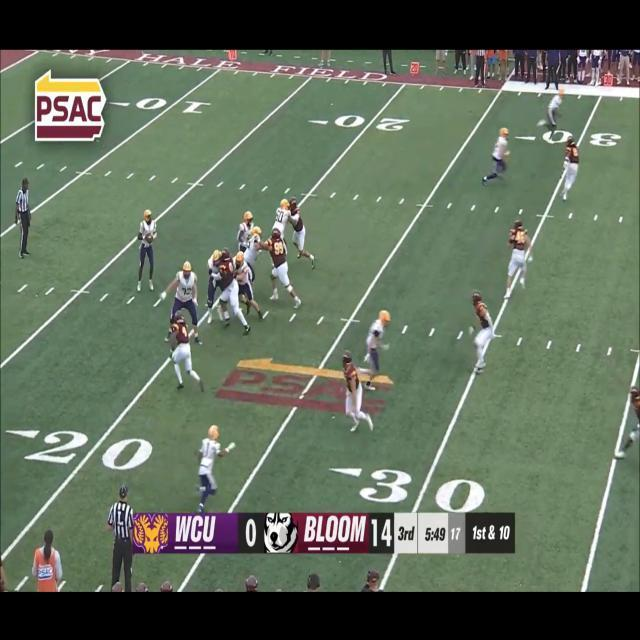football: (145, 231, 154, 244)
